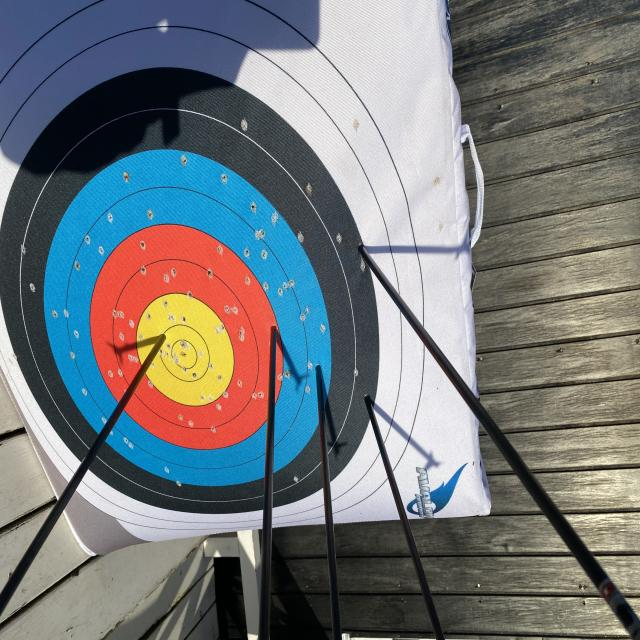Arrow_Black: (359, 383, 378, 422), (348, 237, 371, 266)
Arrow_Blue: (310, 356, 330, 392)
Arrow_Red: (262, 310, 282, 342)
Arrow_Yellow: (146, 320, 172, 358)
